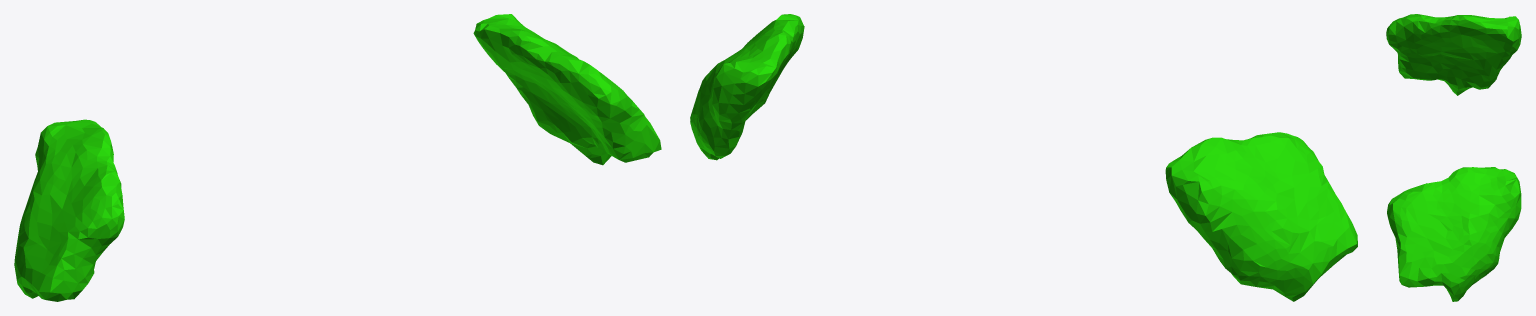
Rendered from 136-GI-granular insular cortex-('0.1529', '1.0000', '0.0000').obj.
The picture shows the model from 3 angles, left to right: view 1: azimuth 30°, elevation 25°; view 2: azimuth 150°, elevation 25°; view 3: azimuth 270°, elevation 25°; orthographic projection. The views are drawn at different scales.
Bounding box in the file's own units: 271 × 60.67 × 69.01.
